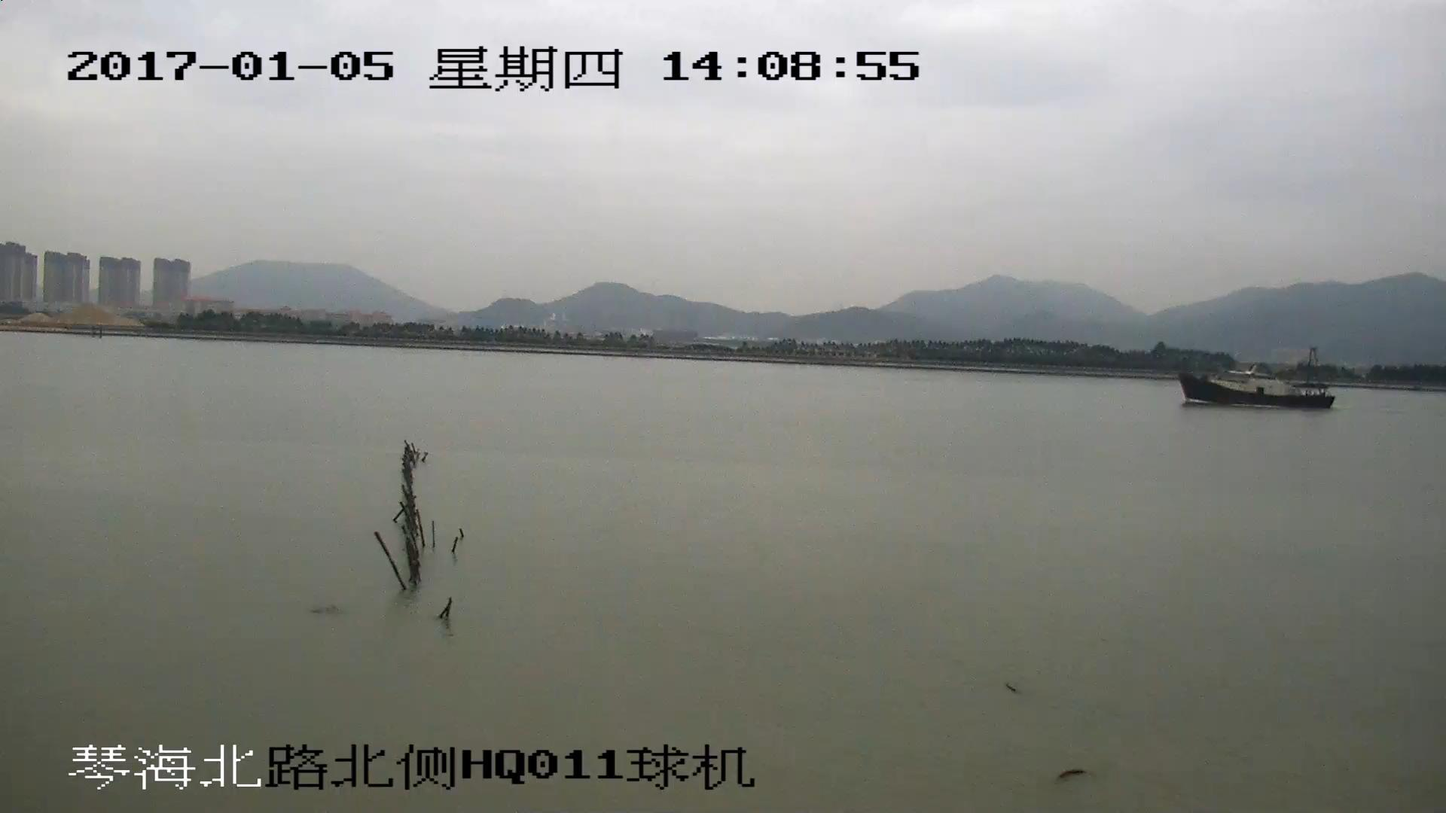fishing boat: (1181, 346, 1336, 407)
